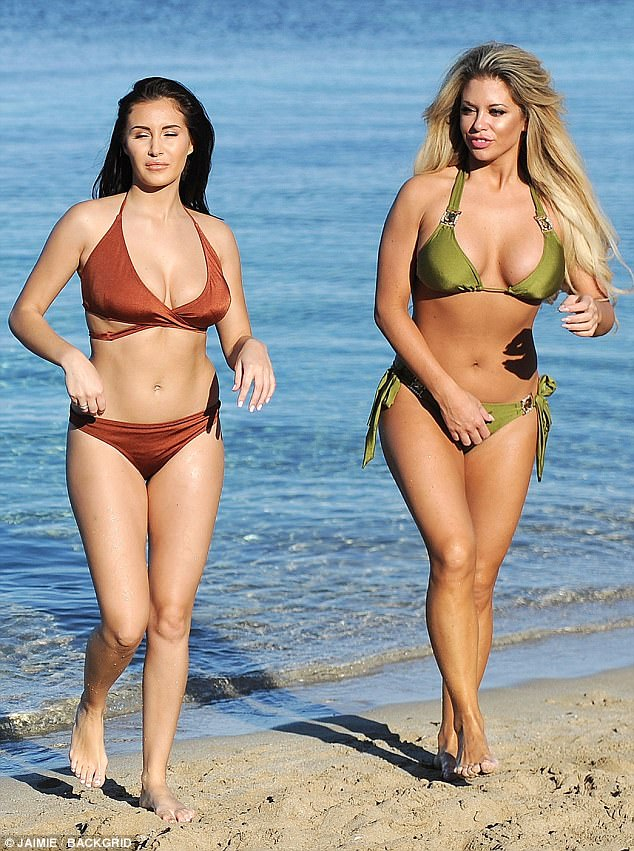Person: (14, 72, 292, 828), (357, 36, 602, 782)
